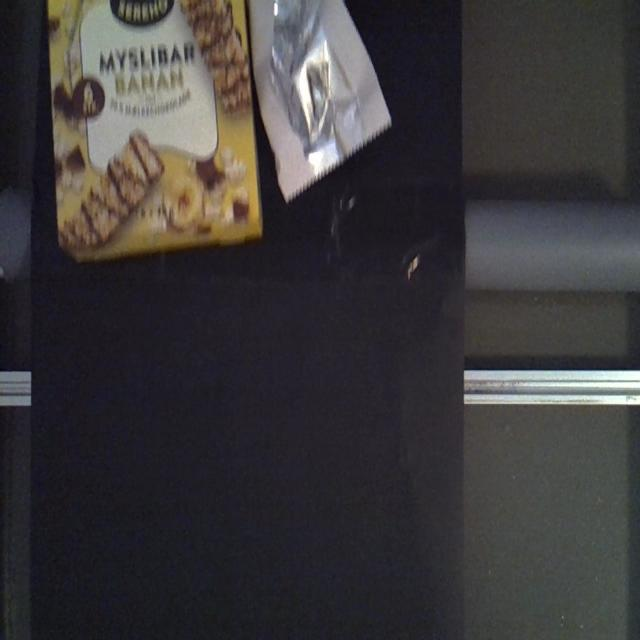carton: (44, 2, 268, 267)
packaging-soft-plastic: (247, 0, 392, 203)
